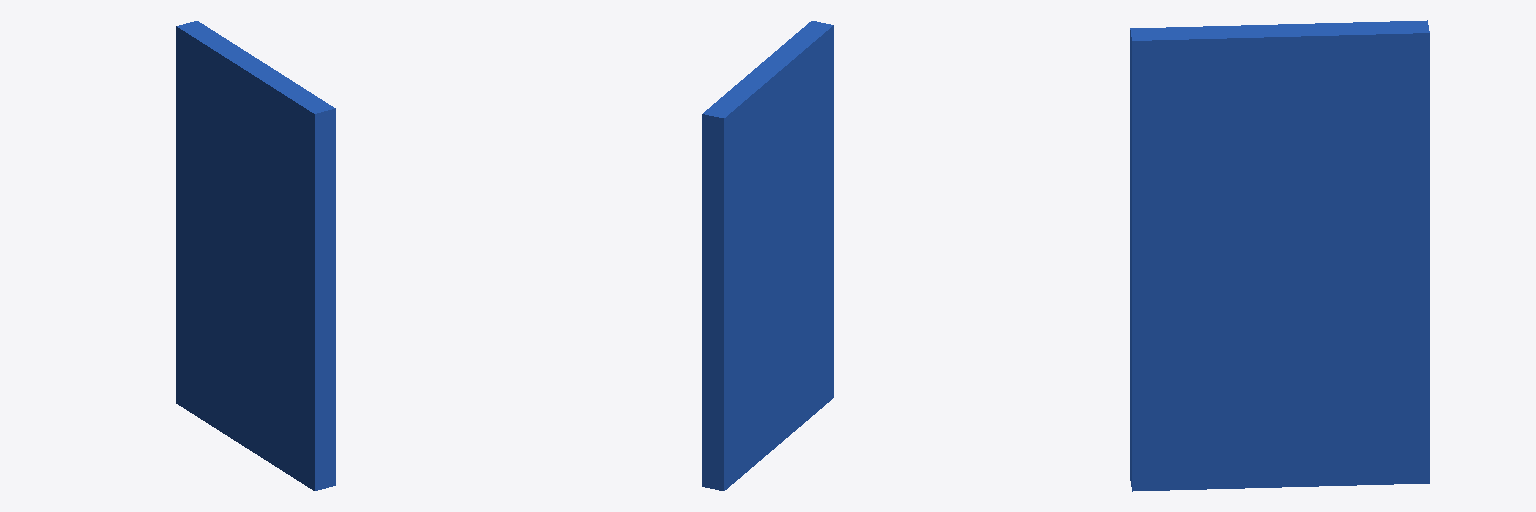
The robot description file, URDF, robot "Domino_8":
<robot name="Domino_8" version="1.0">
  <link name="Domino_8_link">
    <collision name="Cube.007_collision">
      <origin rpy="0.00000 0.00000 -1.50746" xyz="-0.97858 0.96119 0.25000"/>
      <geometry>
        <box size="0.30000 0.03000 0.50000"/>
      </geometry>
    </collision>
    <inertial>
      <inertia ixx="0.00210" ixy="0.00009" ixz="0.00000" iyy="0.00282" iyz="-0.00000" izz="0.00076"/>
      <origin rpy="0.00000 0.00000 0.00000" xyz="-0.97858 0.96119 0.25000"/>
      <mass value="0.10000"/>
    </inertial>
    <visual name="Cube.007">
      <material name="turnarrow"/>
      <origin rpy="0.00000 0.00000 -1.50746" xyz="-0.97858 0.96119 0.25000"/>
      <geometry>
        <box size="0.30000 0.03000 0.50000"/>
      </geometry>
    </visual>
  </link>
  <material name="turnarrow">
    <color rgba="0.23137 0.44706 0.80000 1.00000"/>
  </material>
</robot>

--- Facts derived from the render (not from the file) ---
Views: 3 orthographic renders of the robot side by side, from view 1: azimuth 30°, elevation 25°; view 2: azimuth 150°, elevation 25°; view 3: azimuth 270°, elevation 25°.
Robot: Domino_8 — 1 links, 0 joints (none); root link Domino_8_link; default pose: all joints at 0.
Links seen in each view (by area): view 1: Domino_8_link; view 2: Domino_8_link; view 3: Domino_8_link.
Link boxes in pixels (bbox=[...]): Domino_8_link: bbox=[176, 21, 335, 490]; Domino_8_link: bbox=[702, 21, 833, 490]; Domino_8_link: bbox=[1130, 20, 1429, 491].
Bounding box of the posed robot: 0.0489 × 0.3013 × 0.5 m (x, y, z).
Geometry: primitives only (box / cylinder / sphere), no mesh files.